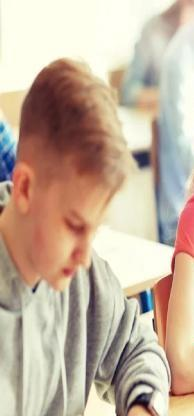good: (5, 47, 194, 416)
